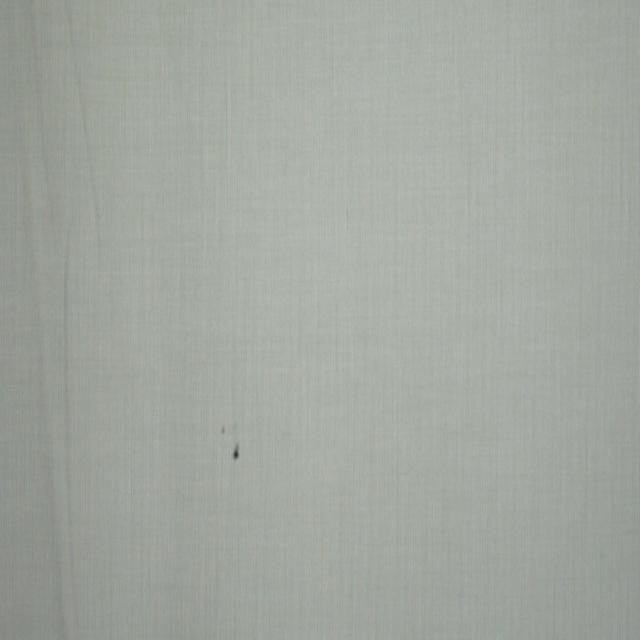dirty: (232, 444, 240, 462), (221, 426, 227, 436)
